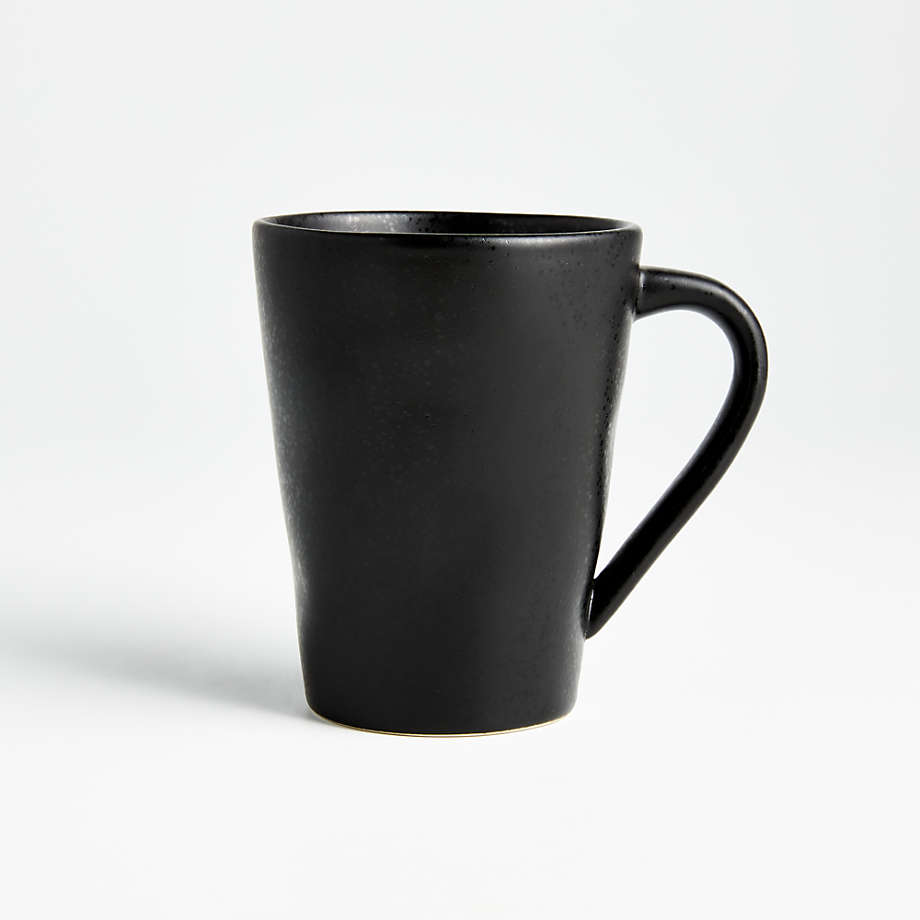gelas: (136, 53, 820, 904)
